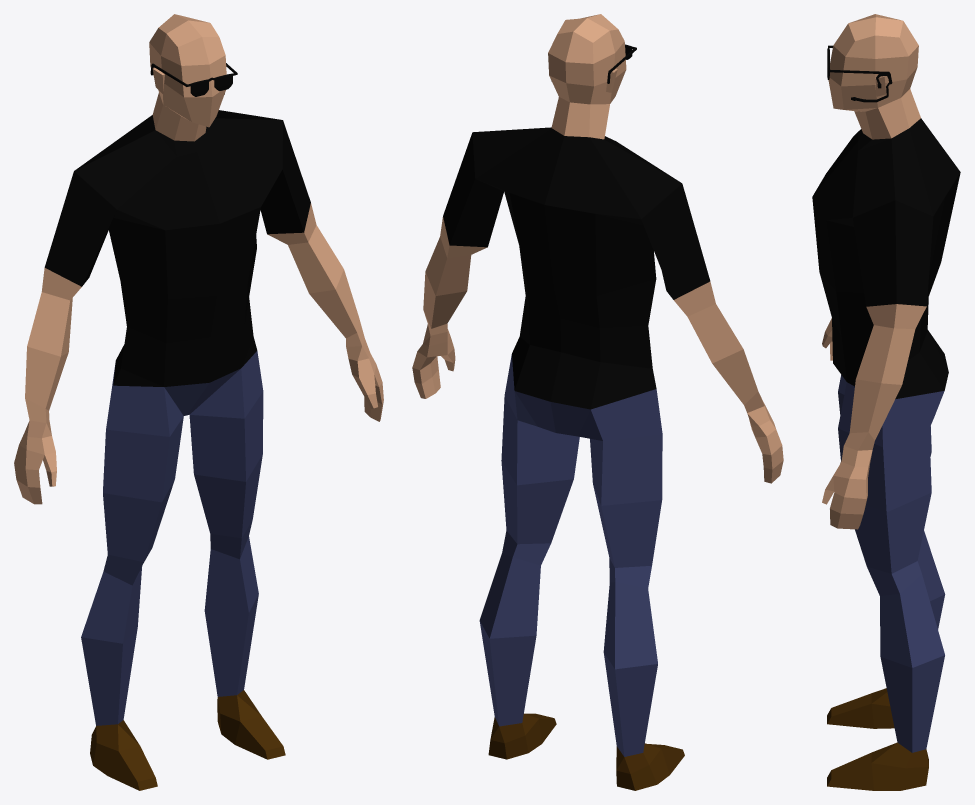
File: Guard.fbx
The picture shows the model from 3 angles, left to right: view 1: azimuth 30°, elevation 25°; view 2: azimuth 150°, elevation 25°; view 3: azimuth 270°, elevation 25°; orthographic projection.
Parts seen in each view (by area): view 1: gafas.001; view 2: gafas.001; view 3: gafas.001.
Part boxes in pixels (bbox=[...]): gafas.001: bbox=[14, 14, 383, 790]; gafas.001: bbox=[412, 14, 783, 790]; gafas.001: bbox=[812, 14, 960, 790].
Bounding box in the file's own units: 457 × 898 × 165.
